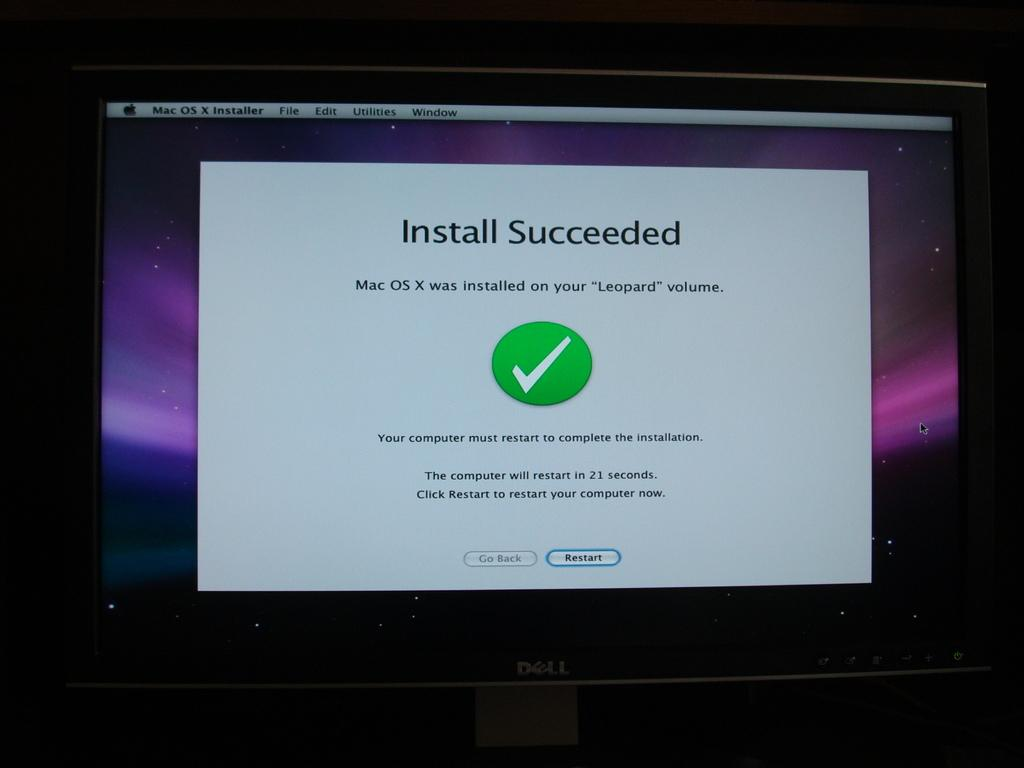Computer-mouse: (63, 62, 1002, 702)
